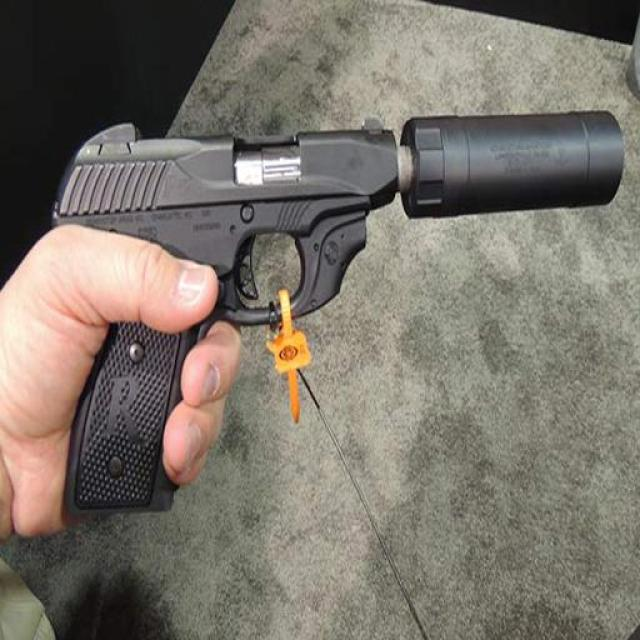pistol: (43, 118, 409, 514)
